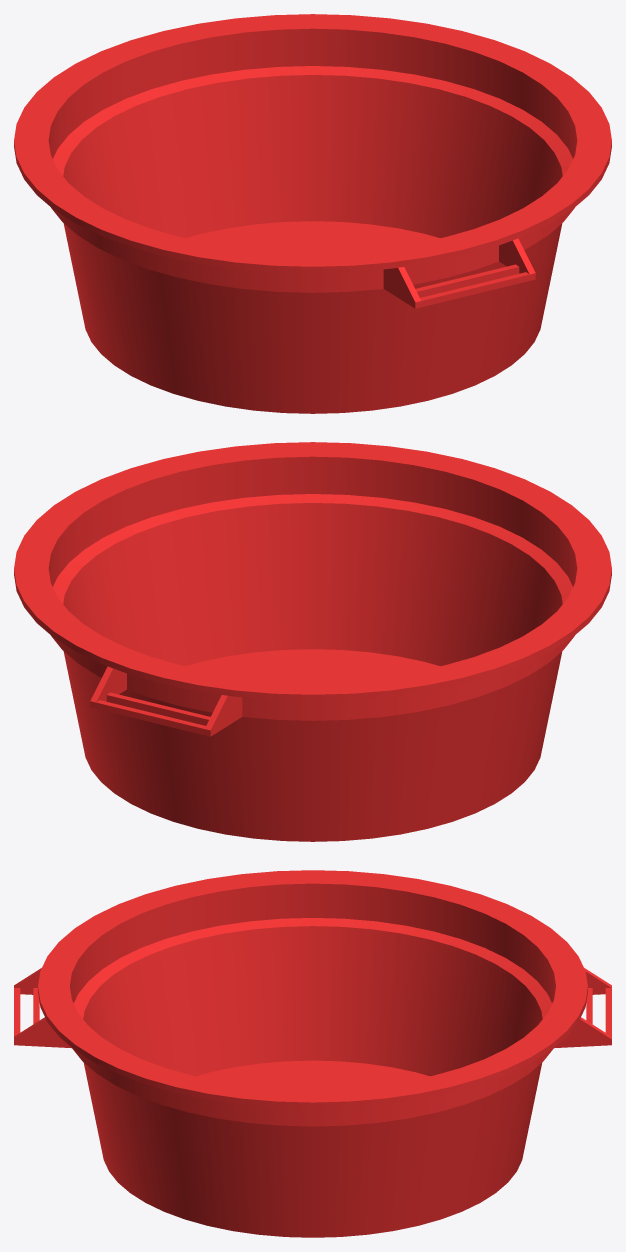
Rendered from tub_red.dae.
3 views of the same model, one above another, from view 1: azimuth 30°, elevation 25°; view 2: azimuth 150°, elevation 25°; view 3: azimuth 270°, elevation 25° (orthographic). The views are drawn at different scales.
Parts seen in each view (by area): view 1: group_0 (×2); view 2: group_0 (×2); view 3: group_0 (×2).
Part boxes in pixels (<box>): group_0 (×2): <box>14,14,611,413</box>; group_0 (×2): <box>14,442,611,841</box>; group_0 (×2): <box>14,870,611,1237</box>.
Size of the model in its own units: 21.5 by 23.38 by 7.
